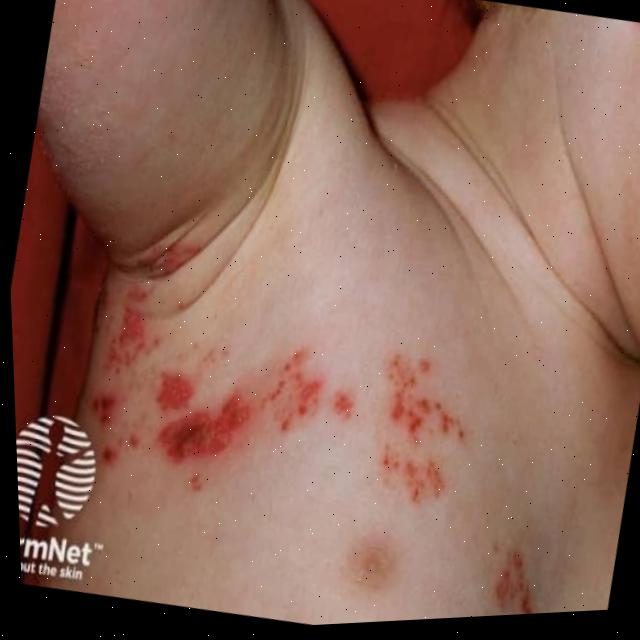Shingles: (77, 295, 341, 503), (364, 348, 472, 509), (495, 562, 525, 615)
